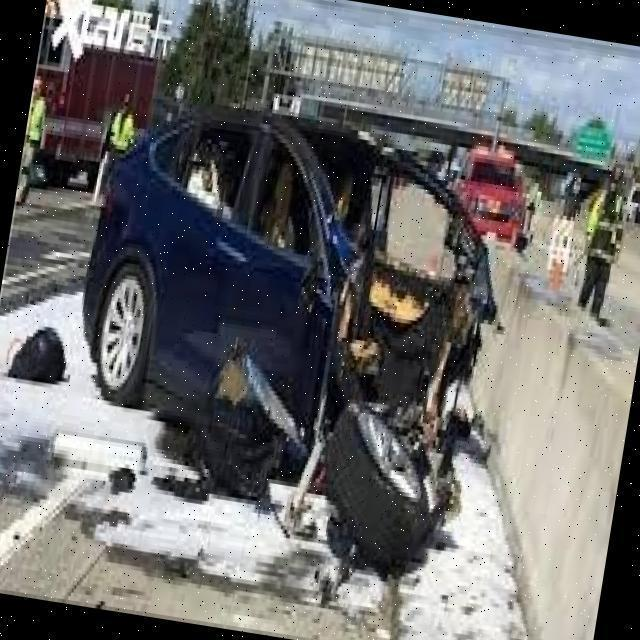accident: (46, 97, 549, 590)
